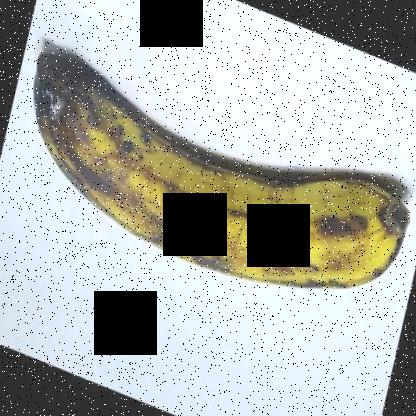overripe: (18, 41, 415, 313)
